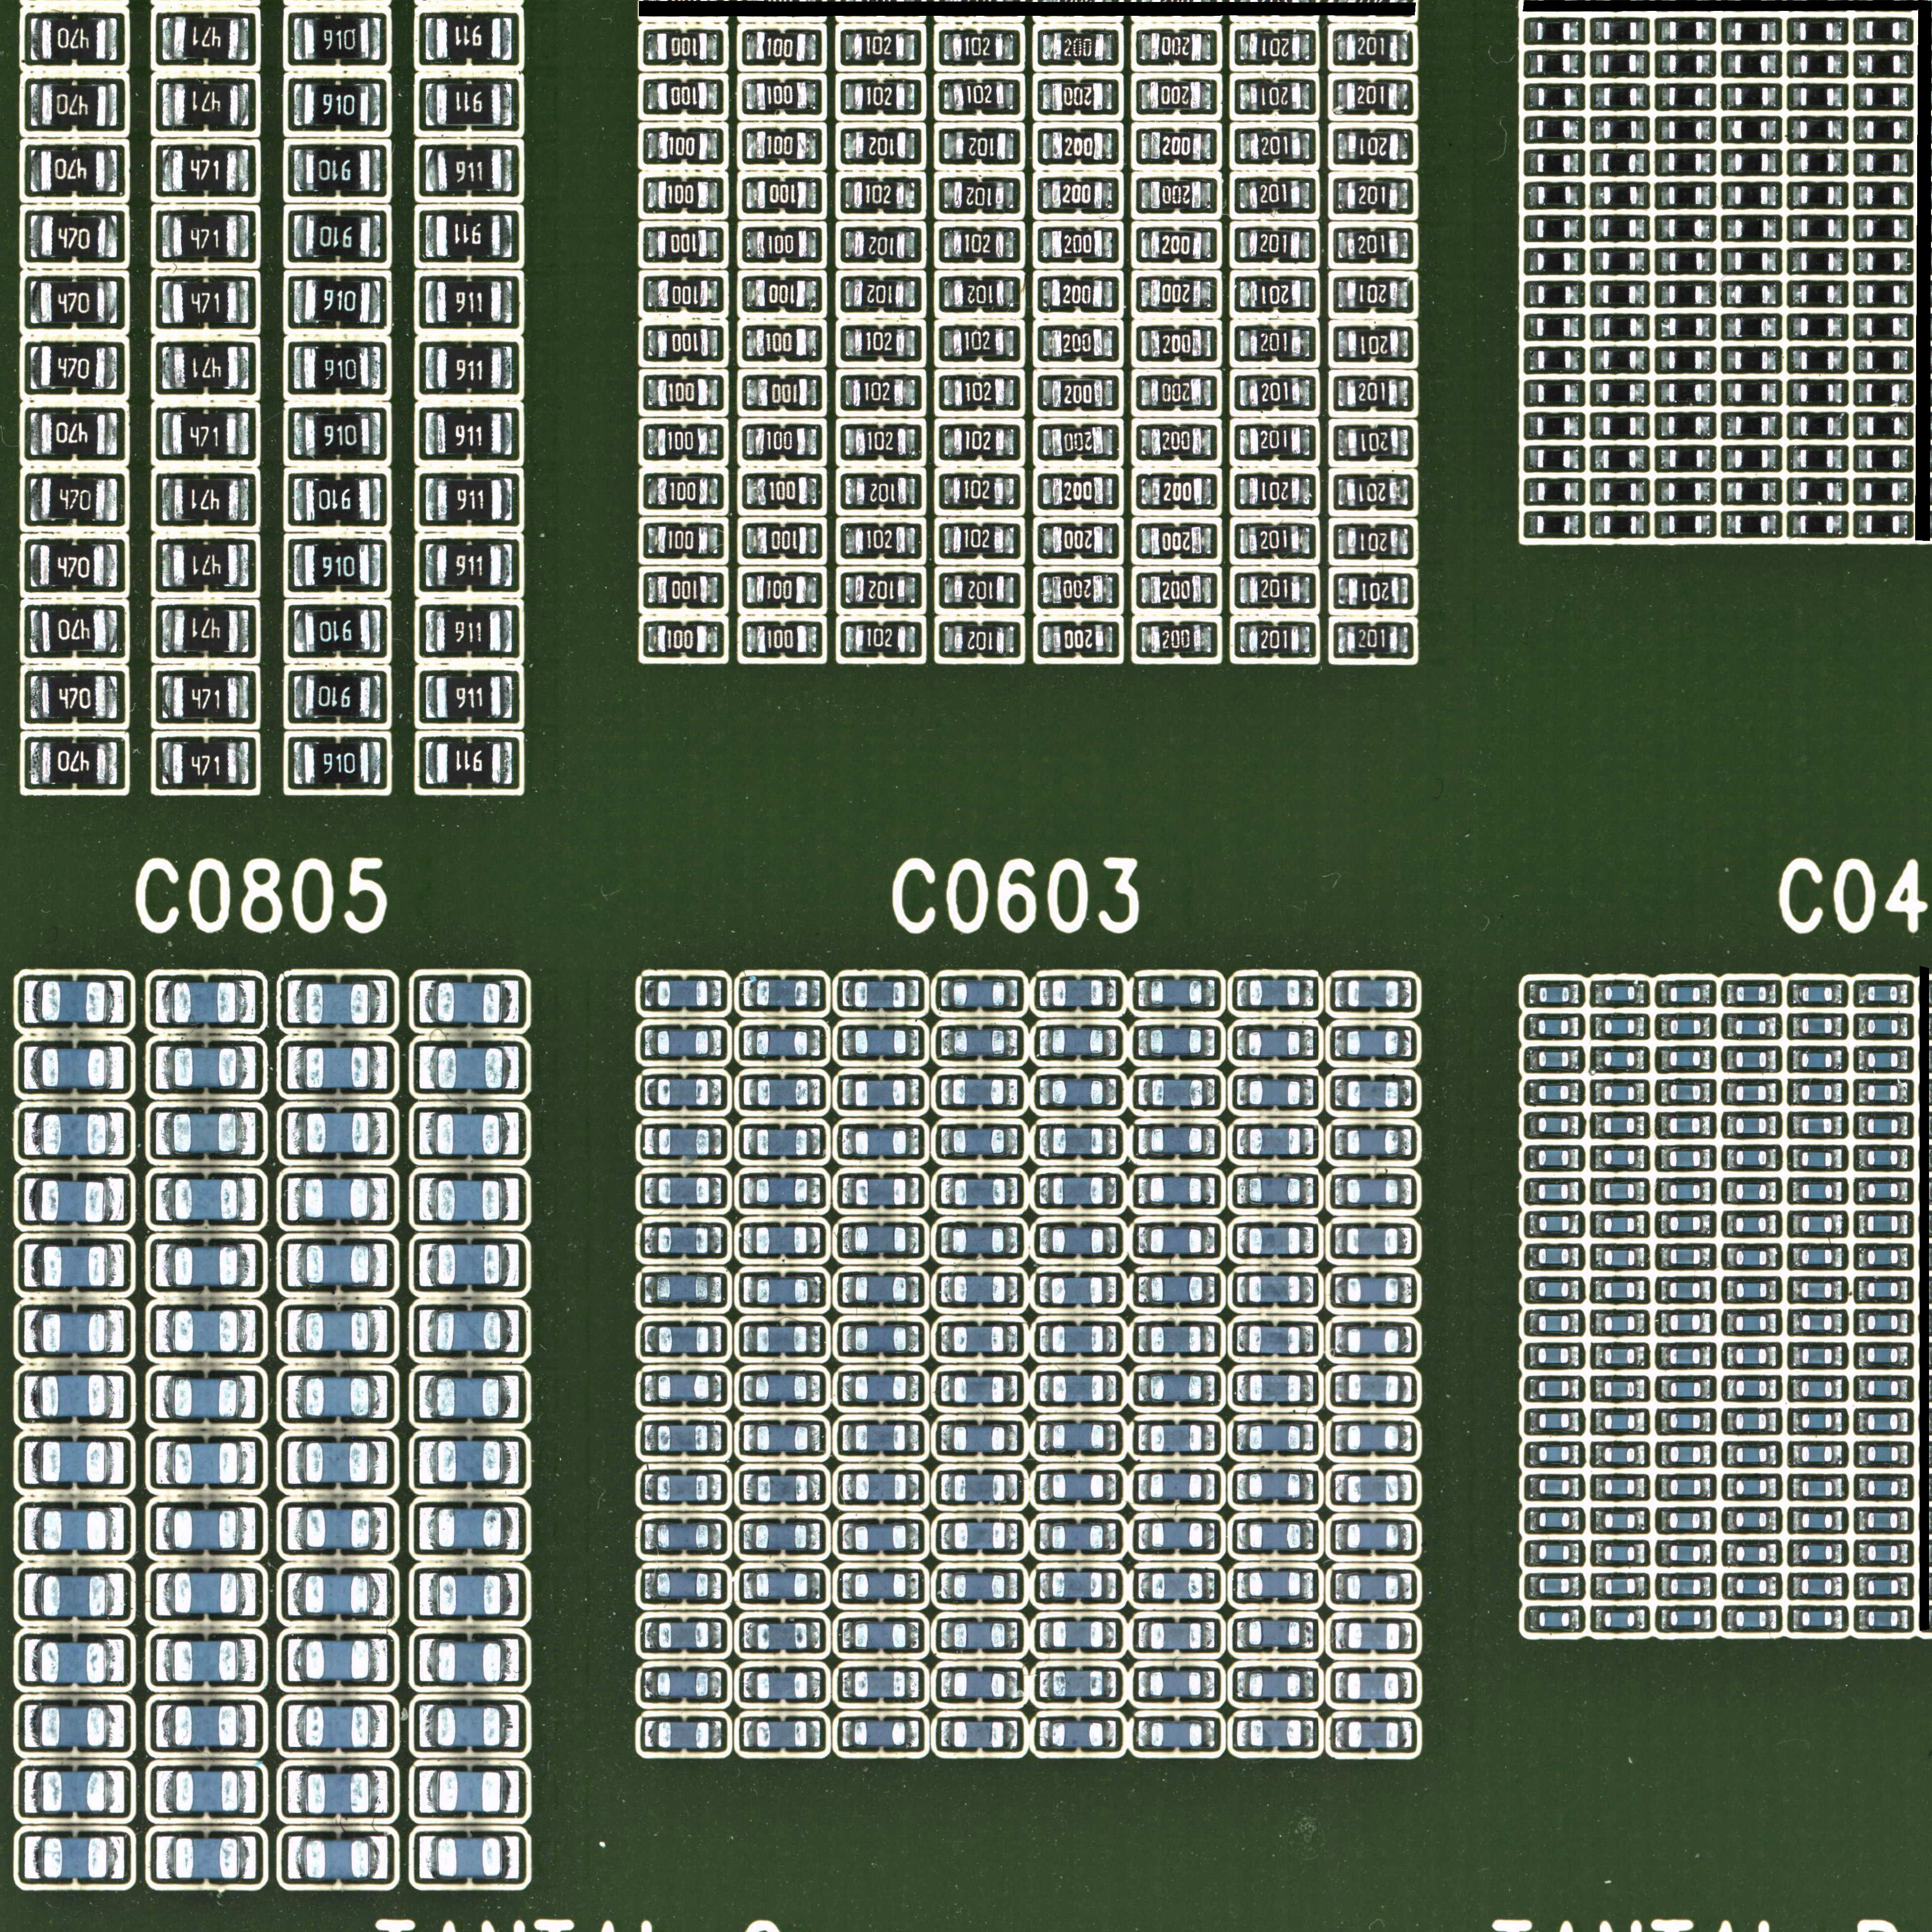Package: (172, 214, 239, 259), (171, 676, 239, 720), (306, 212, 372, 256), (303, 477, 369, 521), (433, 740, 499, 785), (433, 346, 501, 389), (435, 212, 501, 256), (436, 16, 503, 60), (306, 18, 373, 61), (435, 281, 501, 325), (435, 478, 501, 522), (303, 544, 370, 587), (304, 738, 369, 782), (40, 152, 109, 194), (171, 413, 240, 455), (39, 480, 107, 522), (39, 678, 107, 720), (303, 281, 370, 324), (434, 543, 500, 586), (172, 18, 240, 60), (38, 215, 106, 257), (39, 281, 107, 323), (38, 414, 106, 456), (169, 478, 238, 520), (171, 743, 239, 785), (172, 543, 241, 585), (40, 611, 108, 653), (41, 743, 109, 785), (173, 281, 239, 324), (42, 85, 110, 127), (304, 149, 369, 193), (434, 149, 502, 191), (41, 19, 109, 60), (38, 347, 106, 389), (172, 348, 240, 390), (432, 414, 500, 456), (301, 414, 370, 455), (431, 676, 499, 718), (301, 678, 370, 720), (172, 610, 240, 651), (40, 546, 108, 587), (174, 83, 239, 127), (303, 1178, 371, 1219), (174, 1442, 240, 1484), (435, 1441, 500, 1483), (173, 150, 239, 193), (306, 85, 368, 129), (172, 982, 238, 1024), (303, 347, 368, 388), (305, 611, 370, 652), (43, 982, 108, 1024), (40, 1643, 108, 1683), (436, 1049, 504, 1089), (436, 83, 501, 125), (41, 1442, 107, 1483), (436, 612, 501, 653), (38, 1773, 105, 1813), (41, 1838, 107, 1878), (436, 982, 500, 1024), (305, 981, 370, 1023), (173, 1179, 239, 1220), (39, 1181, 106, 1221), (40, 1376, 106, 1416), (305, 1442, 369, 1483), (435, 1706, 500, 1747), (40, 1707, 106, 1747), (435, 1180, 501, 1220), (173, 1379, 241, 1417), (41, 1247, 106, 1287), (175, 1245, 240, 1285), (175, 1310, 240, 1350), (41, 1312, 106, 1352), (40, 1511, 106, 1550), (42, 1577, 108, 1615), (305, 1048, 369, 1088), (304, 1640, 370, 1679), (304, 1708, 370, 1747), (173, 1113, 239, 1152), (437, 1772, 501, 1812), (44, 1113, 109, 1152), (173, 1642, 238, 1681), (436, 1312, 501, 1351), (305, 1113, 370, 1152), (173, 1707, 238, 1745), (171, 1772, 236, 1811), (174, 1838, 239, 1877), (304, 1773, 368, 1812), (306, 1838, 370, 1878), (436, 1114, 499, 1154), (305, 1378, 369, 1417), (305, 1510, 370, 1548), (305, 1575, 370, 1614), (437, 1246, 500, 1285), (437, 1576, 501, 1615), (437, 1838, 502, 1876), (436, 1643, 501, 1681), (305, 1246, 369, 1284), (305, 1311, 369, 1349), (437, 1510, 501, 1547), (175, 1575, 239, 1613), (436, 1378, 499, 1416), (172, 1512, 236, 1549), (176, 1049, 238, 1087), (44, 1049, 105, 1087), (755, 32, 806, 61), (754, 279, 807, 307), (854, 1177, 907, 1206), (1347, 1721, 1400, 1749), (1053, 427, 1104, 456), (756, 1523, 809, 1551), (954, 1474, 1005, 1503), (755, 1226, 808, 1254), (854, 1424, 907, 1451), (756, 477, 809, 505), (756, 182, 809, 209), (755, 576, 808, 604), (954, 1522, 1006, 1550), (755, 131, 807, 159), (1347, 1672, 1399, 1700), (756, 979, 808, 1007), (659, 1176, 710, 1205), (1349, 528, 1400, 556), (854, 1375, 908, 1401), (854, 1226, 907, 1253), (757, 1424, 809, 1451), (1051, 1326, 1104, 1353), (1347, 1080, 1399, 1108), (756, 1672, 808, 1700), (1151, 132, 1201, 160), (953, 981, 1006, 1008), (855, 1473, 907, 1500), (1347, 1622, 1399, 1649), (1052, 1423, 1104, 1450), (1052, 1375, 1104, 1402), (855, 1524, 907, 1551), (757, 1129, 808, 1157), (955, 1178, 1006, 1206), (1151, 1521, 1202, 1549), (659, 1275, 710, 1303), (756, 329, 807, 356), (855, 280, 906, 308), (1149, 1473, 1202, 1499), (1150, 979, 1202, 1006), (855, 1573, 907, 1599), (854, 1030, 907, 1056), (1347, 1128, 1399, 1155), (953, 1721, 1005, 1748), (855, 429, 907, 456), (1348, 281, 1399, 308), (1347, 980, 1398, 1008), (1052, 980, 1103, 1008), (1054, 33, 1104, 61), (1053, 380, 1103, 407), (1152, 181, 1201, 209), (1349, 429, 1399, 457), (1151, 1127, 1203, 1154), (953, 1227, 1005, 1254), (855, 1276, 907, 1303), (954, 1425, 1006, 1452), (953, 1276, 1005, 1303), (954, 1376, 1006, 1403), (756, 1573, 808, 1599), (658, 1721, 709, 1748), (756, 428, 807, 455), (756, 83, 807, 110), (755, 1374, 806, 1401), (1151, 33, 1202, 60), (1052, 280, 1103, 307), (1250, 281, 1301, 308), (1151, 626, 1202, 653), (756, 1326, 807, 1353), (757, 1720, 807, 1748), (1250, 1127, 1300, 1155), (658, 379, 708, 406), (658, 133, 708, 160), (1053, 1029, 1103, 1057), (1349, 380, 1399, 407), (1152, 280, 1201, 308), (1251, 526, 1300, 554), (1150, 1028, 1202, 1055), (657, 182, 709, 208), (756, 1177, 807, 1204), (855, 478, 906, 504), (757, 1476, 809, 1502), (1052, 626, 1104, 652), (1249, 1275, 1300, 1303), (1053, 527, 1103, 554), (1151, 428, 1202, 455), (658, 427, 707, 455), (1151, 81, 1200, 109), (1251, 132, 1301, 159), (1348, 133, 1397, 161), (955, 576, 1005, 603), (1252, 378, 1299, 407), (1052, 1228, 1104, 1254), (853, 981, 905, 1008), (855, 1623, 907, 1649), (855, 1672, 907, 1698), (855, 1721, 907, 1747), (1151, 1622, 1202, 1649), (658, 478, 709, 504), (955, 1573, 1006, 1599), (1348, 1573, 1399, 1600), (1151, 1375, 1202, 1401), (955, 133, 1006, 159), (1250, 183, 1301, 209), (1347, 627, 1398, 653), (659, 1129, 709, 1156), (1347, 1029, 1397, 1057), (1053, 1621, 1103, 1648), (1250, 1620, 1300, 1647), (1250, 979, 1300, 1007), (758, 1078, 808, 1106), (955, 379, 1005, 406), (1152, 1424, 1201, 1451), (1053, 181, 1102, 209), (1150, 1670, 1201, 1696), (1347, 1425, 1399, 1451), (1052, 1474, 1104, 1500), (954, 1029, 1006, 1056), (1052, 1079, 1104, 1106), (953, 627, 1005, 653), (1348, 1374, 1398, 1401), (1052, 1572, 1103, 1599), (854, 1081, 907, 1106), (955, 1672, 1005, 1698), (855, 626, 906, 652), (1153, 1079, 1202, 1106), (1250, 1374, 1300, 1401), (1053, 133, 1103, 160), (955, 182, 1004, 209), (955, 231, 1004, 258), (955, 281, 1004, 308), (1151, 528, 1201, 555), (1054, 477, 1103, 504), (1150, 1228, 1202, 1254), (855, 1326, 907, 1352), (1151, 1721, 1202, 1747), (1347, 1228, 1398, 1254), (1250, 1228, 1301, 1254), (1250, 1523, 1301, 1549), (1250, 1473, 1301, 1499), (1052, 1524, 1103, 1550), (1052, 1721, 1103, 1747), (658, 1523, 708, 1550), (1151, 1326, 1201, 1353), (758, 231, 808, 258), (1152, 232, 1202, 258), (1347, 83, 1397, 110), (1348, 34, 1398, 61), (954, 329, 1004, 356), (1151, 576, 1201, 603), (954, 1078, 1004, 1105), (1153, 1572, 1202, 1599), (658, 1078, 707, 1106), (1054, 1128, 1103, 1155), (659, 1475, 708, 1502), (1250, 33, 1299, 60), (1349, 182, 1398, 209), (1152, 379, 1201, 406), (1151, 1177, 1202, 1203), (854, 1129, 906, 1155), (1348, 1524, 1399, 1550), (955, 1622, 1005, 1648), (1250, 1327, 1301, 1353), (1348, 1328, 1400, 1353), (658, 331, 708, 357), (658, 527, 708, 553), (658, 1572, 709, 1598), (854, 232, 904, 258), (1250, 233, 1300, 259), (1053, 330, 1103, 356), (1250, 576, 1301, 602), (1250, 1079, 1299, 1106), (1053, 1178, 1102, 1205), (658, 1029, 708, 1056), (658, 980, 707, 1007), (658, 281, 708, 307), (855, 329, 905, 356), (1053, 231, 1102, 257), (954, 477, 1004, 504), (659, 1670, 707, 1697), (658, 230, 707, 257), (1051, 1277, 1102, 1303), (954, 1326, 1005, 1352), (757, 1030, 808, 1056), (1250, 83, 1301, 109), (855, 528, 907, 553), (854, 577, 906, 602), (658, 1374, 708, 1401), (758, 527, 808, 553), (758, 379, 808, 405), (756, 626, 806, 652), (856, 133, 906, 159), (856, 84, 906, 110), (1349, 232, 1399, 258), (954, 528, 1004, 554), (1152, 478, 1202, 504), (1053, 576, 1103, 602), (1349, 578, 1399, 604), (855, 182, 904, 208), (1349, 479, 1398, 506), (955, 429, 1004, 455), (659, 1621, 707, 1648), (657, 577, 708, 603), (1251, 428, 1301, 454), (1250, 1030, 1299, 1056), (757, 1623, 806, 1649), (854, 380, 903, 406), (1251, 478, 1299, 505), (1348, 1277, 1398, 1303), (657, 627, 707, 652), (757, 1279, 809, 1304), (659, 1227, 708, 1253), (658, 83, 707, 109), (856, 34, 905, 60), (1054, 84, 1103, 110), (1250, 626, 1298, 653), (659, 1327, 708, 1352), (1152, 331, 1201, 356), (1250, 330, 1300, 356), (1349, 331, 1398, 356), (659, 1425, 707, 1451), (1250, 1572, 1300, 1597), (1251, 1425, 1301, 1450), (954, 1128, 1004, 1154), (1349, 1476, 1399, 1501), (1250, 1178, 1300, 1203), (1152, 1277, 1202, 1302), (1348, 1178, 1397, 1204), (1250, 1673, 1299, 1698), (1251, 1721, 1300, 1746), (658, 34, 706, 59), (955, 83, 1004, 108), (955, 35, 1003, 59), (1055, 1672, 1103, 1696), (1602, 184, 1638, 205), (1865, 185, 1900, 206), (1801, 86, 1835, 107), (1800, 251, 1835, 272), (1602, 251, 1637, 271), (1667, 349, 1702, 370), (1865, 252, 1900, 272), (1865, 350, 1900, 370), (1734, 383, 1768, 403), (1538, 153, 1571, 174), (1736, 55, 1769, 76), (1669, 382, 1702, 403), (1735, 22, 1770, 42), (1799, 22, 1834, 42), (1735, 219, 1769, 239), (1669, 482, 1701, 502), (1866, 318, 1901, 337), (1670, 21, 1704, 41), (1602, 120, 1637, 140), (1603, 285, 1637, 305), (1735, 186, 1768, 206), (1799, 120, 1833, 140), (1669, 87, 1701, 107), (1801, 284, 1834, 304), (1602, 417, 1637, 435), (1603, 483, 1637, 502), (1538, 251, 1571, 271), (1538, 449, 1571, 469), (1538, 482, 1571, 501), (1669, 153, 1702, 173), (1801, 384, 1834, 403), (1538, 516, 1572, 535), (1670, 514, 1702, 534), (1603, 318, 1637, 337), (1602, 449, 1637, 468), (1603, 350, 1637, 369), (1538, 385, 1572, 403), (1603, 516, 1637, 534), (1602, 154, 1637, 173), (1735, 318, 1768, 337), (1866, 383, 1899, 402), (1669, 416, 1702, 435), (1604, 87, 1637, 107), (1800, 318, 1833, 338), (1539, 88, 1571, 107), (1801, 55, 1834, 75), (1867, 153, 1899, 172), (1734, 153, 1768, 171), (1669, 318, 1703, 336), (1800, 153, 1834, 172), (1865, 219, 1899, 237), (1537, 120, 1570, 139), (1670, 253, 1703, 272), (1735, 351, 1768, 370), (1801, 417, 1834, 436), (1866, 449, 1899, 468), (1866, 88, 1899, 106), (1801, 187, 1834, 205), (1735, 417, 1768, 435), (1800, 450, 1833, 469), (1538, 186, 1571, 205), (1670, 449, 1702, 468), (1867, 515, 1899, 534), (1736, 482, 1768, 501), (1537, 351, 1571, 369), (1671, 55, 1702, 75), (1734, 88, 1768, 106), (1538, 219, 1570, 238), (1734, 121, 1767, 140), (1735, 449, 1768, 468), (1735, 515, 1767, 534), (1867, 416, 1899, 435), (1801, 482, 1833, 501), (1538, 286, 1571, 304), (1602, 384, 1635, 402), (1603, 219, 1637, 238), (1668, 219, 1701, 237), (1866, 22, 1899, 40), (1735, 286, 1768, 303), (1537, 318, 1570, 337), (1669, 286, 1702, 304), (1800, 351, 1833, 369), (1671, 1446, 1702, 1464), (1538, 417, 1570, 435), (1867, 55, 1899, 74), (1803, 1609, 1835, 1627), (1800, 1578, 1833, 1596), (1604, 54, 1636, 73), (1866, 483, 1897, 501), (1802, 1480, 1835, 1497), (1801, 1117, 1834, 1135), (1670, 1215, 1702, 1233), (1538, 22, 1570, 40), (1801, 1446, 1834, 1463), (1801, 1149, 1834, 1166), (1802, 1182, 1835, 1200), (1801, 1216, 1834, 1234), (1801, 1248, 1834, 1265), (1800, 1282, 1833, 1300), (1670, 1281, 1702, 1299), (1669, 1313, 1702, 1331), (1801, 1347, 1834, 1365), (1801, 1380, 1834, 1398), (1867, 121, 1900, 139), (1867, 285, 1899, 303), (1670, 1478, 1702, 1497), (1802, 1084, 1834, 1103), (1538, 54, 1570, 73), (1669, 1512, 1701, 1531), (1670, 121, 1702, 139), (1802, 219, 1834, 237), (1604, 1412, 1635, 1431), (1604, 23, 1637, 40), (1669, 1116, 1701, 1134), (1669, 1348, 1701, 1365), (1736, 1511, 1767, 1529), (1671, 1578, 1702, 1596), (1801, 1016, 1832, 1035), (1735, 1314, 1766, 1333), (1736, 1577, 1767, 1595), (1868, 1216, 1899, 1234), (1868, 1412, 1900, 1430), (1669, 1546, 1701, 1564), (1736, 252, 1767, 270), (1867, 1511, 1898, 1530), (1604, 1380, 1635, 1399), (1539, 1149, 1569, 1167), (1737, 1182, 1768, 1201), (1736, 1216, 1767, 1234), (1867, 1546, 1898, 1564), (1734, 985, 1766, 1002), (1736, 1018, 1767, 1036), (1605, 1512, 1636, 1530), (1670, 1084, 1701, 1102), (1736, 1412, 1767, 1430), (1605, 1546, 1636, 1564), (1736, 1545, 1767, 1563), (1604, 1281, 1635, 1300), (1540, 1380, 1570, 1398), (1868, 1149, 1900, 1166), (1867, 1116, 1898, 1134), (1670, 986, 1702, 1003), (1670, 188, 1701, 205), (1671, 1183, 1702, 1200), (1869, 1183, 1900, 1200), (1868, 1248, 1899, 1265), (1868, 1282, 1899, 1299), (1868, 1347, 1900, 1364), (1867, 1446, 1899, 1463), (1539, 1347, 1569, 1365), (1604, 1149, 1635, 1167), (1736, 1282, 1767, 1300), (1737, 1347, 1767, 1365), (1605, 985, 1635, 1004), (1867, 1479, 1899, 1496), (1604, 1249, 1635, 1266), (1603, 1116, 1635, 1134), (1604, 1314, 1634, 1332), (1604, 1478, 1635, 1496), (1540, 1215, 1569, 1233), (1539, 1248, 1569, 1265), (1540, 1446, 1569, 1464), (1540, 986, 1569, 1004), (1801, 986, 1834, 1003), (1868, 1579, 1900, 1595), (1868, 1610, 1900, 1627), (1800, 516, 1833, 532), (1539, 1545, 1570, 1561), (1670, 1413, 1701, 1430), (1539, 1116, 1569, 1134), (1539, 1578, 1569, 1595), (1671, 1381, 1701, 1398), (1670, 1151, 1701, 1167), (1605, 1018, 1636, 1035), (1604, 1348, 1635, 1364), (1540, 1051, 1571, 1068), (1867, 1314, 1898, 1331), (1540, 1478, 1569, 1496), (1540, 1315, 1569, 1333), (1604, 1446, 1634, 1463), (1671, 1248, 1700, 1265), (1868, 1018, 1898, 1035), (1604, 1216, 1634, 1233), (1868, 984, 1898, 1001), (1670, 1051, 1700, 1068), (1540, 1084, 1569, 1102), (1671, 1019, 1701, 1035), (1540, 1413, 1570, 1430), (1868, 1380, 1898, 1397), (1736, 1479, 1767, 1496), (1540, 1281, 1569, 1298), (1605, 1052, 1635, 1068), (1539, 1512, 1569, 1529), (1736, 1051, 1766, 1067), (1736, 1117, 1766, 1134), (1801, 1315, 1832, 1331), (1737, 1447, 1767, 1463), (1540, 1611, 1569, 1628), (1540, 1019, 1569, 1036), (1604, 1183, 1633, 1200), (1736, 1085, 1765, 1102), (1736, 1381, 1766, 1397), (1737, 1611, 1767, 1627), (1736, 1250, 1766, 1266), (1540, 1184, 1569, 1200), (1803, 1513, 1833, 1529), (1869, 1052, 1897, 1068), (1869, 1085, 1897, 1102), (1736, 1151, 1766, 1166), (1606, 1579, 1635, 1595), (1802, 1545, 1831, 1561), (1606, 1611, 1635, 1628), (1802, 1413, 1832, 1429), (1604, 1086, 1634, 1101), (1803, 1053, 1832, 1068), (1672, 1610, 1700, 1625)
Solder: (420, 1573, 438, 1616), (370, 1638, 387, 1682), (502, 1573, 520, 1617), (502, 1112, 519, 1155), (502, 1310, 518, 1354), (239, 1310, 255, 1354), (502, 1376, 518, 1421), (107, 1770, 123, 1815), (107, 1836, 123, 1881), (241, 981, 258, 1025), (503, 980, 519, 1024), (373, 980, 389, 1024), (502, 1178, 519, 1222), (239, 1244, 255, 1288), (239, 1375, 255, 1419), (502, 1442, 518, 1486), (502, 1508, 519, 1552), (107, 1640, 124, 1684), (107, 1706, 123, 1750), (501, 1705, 518, 1749), (501, 1770, 518, 1814), (420, 1508, 437, 1549), (502, 1640, 518, 1683), (419, 1245, 436, 1287), (22, 1377, 39, 1419), (238, 1508, 255, 1550), (371, 1771, 388, 1813), (238, 1835, 255, 1878), (240, 1046, 255, 1091), (240, 1112, 256, 1157), (107, 1508, 123, 1552), (370, 1047, 386, 1088), (240, 1573, 256, 1615), (238, 1640, 255, 1681), (110, 1047, 126, 1091), (110, 1179, 126, 1223), (240, 1177, 255, 1221), (372, 1112, 388, 1156), (112, 1112, 128, 1157), (109, 1245, 125, 1289), (108, 1311, 124, 1355), (108, 1377, 124, 1421), (109, 1443, 125, 1487), (108, 1574, 124, 1618), (503, 1836, 519, 1880), (156, 1046, 173, 1088), (371, 1178, 387, 1220), (503, 1244, 519, 1287), (371, 1310, 387, 1353), (156, 1309, 172, 1352), (156, 1375, 172, 1418), (156, 1441, 172, 1483), (156, 1507, 172, 1550), (370, 1705, 386, 1747), (23, 1771, 40, 1813), (24, 1836, 41, 1879), (23, 981, 40, 1023), (153, 981, 170, 1023), (415, 980, 431, 1022), (285, 980, 301, 1022), (420, 1046, 436, 1088), (287, 1047, 303, 1089), (25, 1047, 42, 1089), (25, 1179, 42, 1221), (157, 1179, 173, 1221), (287, 1178, 303, 1220), (420, 1178, 436, 1220), (287, 1112, 303, 1154), (155, 1112, 171, 1155), (23, 1113, 40, 1155), (287, 1244, 303, 1286), (24, 1245, 41, 1287), (156, 1244, 172, 1286), (419, 1310, 435, 1352), (288, 1310, 304, 1352), (24, 1311, 41, 1353), (287, 1376, 303, 1418), (420, 1376, 436, 1418), (23, 1443, 40, 1485), (419, 1442, 435, 1484), (287, 1442, 303, 1484), (24, 1508, 41, 1550), (156, 1572, 173, 1614), (24, 1574, 40, 1616), (156, 1639, 172, 1681), (24, 1639, 41, 1681), (23, 1705, 40, 1747), (156, 1706, 172, 1748), (238, 1706, 254, 1748), (238, 1771, 254, 1813), (155, 1770, 171, 1812), (370, 1836, 386, 1879), (157, 1836, 173, 1878), (420, 1112, 435, 1155), (372, 1442, 387, 1485), (372, 1376, 387, 1419), (371, 1573, 386, 1616), (503, 1047, 519, 1089), (420, 1639, 435, 1682), (372, 1507, 387, 1549), (420, 1705, 435, 1748), (372, 1244, 387, 1285), (241, 1443, 256, 1484), (289, 1771, 303, 1813), (288, 1640, 303, 1681), (289, 1837, 304, 1879), (111, 981, 125, 1023), (288, 1508, 302, 1549), (288, 1574, 302, 1615), (289, 1705, 303, 1747), (421, 1771, 435, 1812), (421, 1836, 435, 1878), (426, 16, 436, 60), (295, 16, 305, 60), (162, 17, 172, 60), (162, 83, 172, 127), (294, 83, 304, 126), (426, 83, 435, 126), (426, 148, 435, 192), (294, 148, 304, 192), (425, 215, 435, 258), (293, 215, 303, 258), (161, 215, 171, 259), (291, 281, 301, 325), (160, 281, 170, 325), (292, 345, 302, 389), (290, 412, 300, 455), (292, 543, 302, 586), (291, 741, 301, 785), (31, 17, 41, 60), (31, 83, 41, 127), (29, 215, 39, 259), (28, 281, 38, 325), (162, 149, 172, 192), (292, 478, 302, 521), (292, 608, 302, 651), (290, 676, 300, 719), (31, 149, 41, 192), (1003, 1079, 1018, 1105), (709, 1325, 722, 1354), (1301, 1622, 1314, 1649), (708, 1523, 722, 1551), (708, 1671, 722, 1699), (707, 1030, 722, 1056), (941, 1178, 955, 1205), (1202, 1671, 1215, 1699), (906, 1622, 919, 1650), (642, 1325, 655, 1354), (708, 980, 722, 1007), (1201, 1177, 1215, 1204), (743, 1177, 756, 1205), (708, 1375, 722, 1402), (1103, 1621, 1116, 1649), (743, 1425, 757, 1451), (806, 1622, 820, 1649), (643, 1128, 656, 1157), (709, 1128, 722, 1157), (743, 1571, 756, 1600), (709, 1621, 722, 1650), (1398, 1030, 1411, 1057), (1399, 1080, 1412, 1107), (1335, 1079, 1348, 1106), (708, 1079, 721, 1106), (906, 1128, 919, 1156), (644, 1276, 658, 1303), (1201, 1425, 1214, 1452), (940, 1474, 954, 1501), (644, 1721, 657, 1748), (1201, 1326, 1215, 1352), (1334, 1178, 1347, 1206), (1203, 1720, 1215, 1749), (1202, 1030, 1215, 1057), (1301, 1030, 1314, 1057), (1138, 1079, 1151, 1106), (644, 1078, 658, 1105), (1004, 1128, 1017, 1155), (1203, 1277, 1216, 1304), (1335, 1425, 1349, 1452), (1039, 1621, 1053, 1648), (645, 1474, 658, 1500), (1237, 1227, 1250, 1255), (1103, 1573, 1116, 1598), (1139, 1572, 1152, 1599), (1335, 1475, 1348, 1502), (504, 18, 513, 60), (374, 18, 382, 60), (241, 18, 249, 60), (241, 85, 249, 127), (370, 84, 379, 126), (504, 84, 512, 126), (370, 149, 379, 192), (504, 149, 513, 192), (241, 150, 249, 192), (503, 215, 512, 257), (374, 215, 382, 257), (503, 282, 511, 324), (241, 283, 249, 325), (503, 346, 512, 388), (241, 347, 249, 389), (240, 414, 248, 456), (503, 478, 512, 520), (241, 480, 249, 522), (504, 543, 512, 585), (241, 545, 250, 587), (504, 608, 512, 650), (241, 610, 250, 652), (370, 675, 378, 717), (241, 677, 249, 720), (502, 742, 511, 784), (371, 741, 379, 783), (241, 742, 250, 784), (110, 18, 118, 60), (109, 150, 117, 192), (108, 217, 116, 259), (109, 283, 117, 325), (109, 347, 118, 389), (108, 414, 117, 456), (109, 677, 117, 720), (906, 1178, 919, 1204), (709, 1227, 722, 1254), (709, 1276, 722, 1303), (709, 1425, 722, 1451), (1103, 980, 1116, 1008), (1202, 1079, 1215, 1106), (744, 1078, 757, 1105), (1399, 1228, 1412, 1255), (1237, 1177, 1250, 1204), (1202, 1375, 1215, 1402), (1139, 1621, 1152, 1648), (1237, 1523, 1250, 1550), (1138, 1523, 1151, 1550), (644, 1622, 657, 1649), (905, 981, 919, 1006), (371, 281, 380, 323), (371, 412, 379, 453), (1039, 979, 1052, 1008), (1334, 980, 1347, 1009), (1040, 1078, 1052, 1107), (1039, 1128, 1052, 1156), (1105, 1128, 1117, 1156), (1103, 1177, 1115, 1206), (1335, 1277, 1347, 1305), (1039, 1325, 1052, 1353), (1105, 1375, 1117, 1403), (1039, 1375, 1052, 1403), (1335, 1721, 1347, 1749), (1335, 1672, 1347, 1700), (1333, 1574, 1345, 1602), (940, 1079, 953, 1106), (940, 1720, 953, 1747), (1202, 980, 1215, 1007), (1301, 1079, 1313, 1106), (807, 1128, 820, 1155), (1301, 1178, 1314, 1205), (1039, 1178, 1052, 1205), (1202, 1227, 1215, 1254), (940, 1326, 954, 1352), (1103, 1721, 1116, 1747), (907, 1474, 919, 1500), (645, 1523, 658, 1550), (906, 1523, 919, 1550), (645, 1573, 658, 1598), (743, 1623, 757, 1648), (644, 1671, 657, 1698), (710, 1721, 723, 1748), (808, 1721, 821, 1747), (1039, 1028, 1052, 1056), (1040, 1028, 1052, 1056), (1105, 1078, 1117, 1106), (941, 1276, 954, 1304), (1335, 1326, 1348, 1354), (941, 1375, 954, 1403), (1335, 1622, 1348, 1650), (1005, 1721, 1017, 1748), (907, 1079, 920, 1106), (744, 1277, 757, 1303), (907, 1277, 920, 1303), (1138, 1326, 1151, 1352), (644, 1375, 657, 1401), (1104, 1671, 1116, 1697), (1203, 1622, 1215, 1648), (645, 1425, 658, 1451), (807, 1524, 820, 1550), (644, 981, 658, 1006), (1040, 1672, 1054, 1697), (743, 1475, 757, 1500), (809, 980, 821, 1008), (941, 1129, 953, 1156), (1138, 1276, 1151, 1304), (907, 1326, 919, 1353), (941, 1572, 953, 1599), (907, 1720, 919, 1747), (1399, 980, 1410, 1009), (1104, 1029, 1115, 1058), (1006, 1178, 1018, 1206), (1399, 1178, 1411, 1207), (1105, 1275, 1116, 1304), (1237, 1276, 1249, 1304), (1105, 1326, 1116, 1354), (1400, 1326, 1411, 1354), (1334, 1373, 1346, 1401), (1303, 1375, 1314, 1403), (1006, 1375, 1018, 1403), (1006, 1424, 1017, 1452), (1302, 1720, 1313, 1748), (1401, 1572, 1412, 1600), (1006, 1473, 1018, 1501), (240, 217, 247, 259), (372, 345, 380, 387), (502, 412, 510, 454), (372, 477, 380, 519), (373, 543, 381, 585), (373, 608, 381, 650), (501, 676, 509, 718), (111, 84, 119, 126), (108, 479, 116, 521), (110, 545, 118, 587), (110, 610, 118, 652), (110, 742, 118, 784), (645, 1178, 658, 1204), (808, 1326, 821, 1352), (1237, 1376, 1250, 1401), (941, 1623, 954, 1648), (1301, 1524, 1314, 1549), (1104, 1474, 1116, 1499), (808, 1672, 821, 1697), (1302, 1128, 1314, 1155), (808, 1227, 820, 1254), (941, 1227, 953, 1254), (808, 1375, 820, 1402), (1301, 1425, 1313, 1451), (1040, 1425, 1052, 1451), (1237, 1573, 1249, 1599), (1335, 1524, 1348, 1550), (907, 1572, 919, 1599), (842, 1721, 854, 1747), (1138, 979, 1150, 1007), (1302, 979, 1313, 1007), (908, 1029, 919, 1057), (1005, 1276, 1017, 1304), (1399, 1277, 1411, 1304), (1006, 1326, 1017, 1354), (1302, 1326, 1313, 1353), (1204, 1572, 1215, 1600), (1203, 1522, 1215, 1550), (908, 1424, 920, 1451), (1202, 1129, 1215, 1154), (645, 1228, 658, 1253), (744, 1672, 757, 1697), (744, 1030, 756, 1056), (1334, 1029, 1347, 1056), (744, 1129, 756, 1155), (709, 1178, 722, 1205), (1335, 1228, 1347, 1255), (743, 1326, 755, 1352), (1401, 1623, 1413, 1649), (1237, 1622, 1250, 1648), (1040, 1572, 1052, 1598), (1104, 1523, 1116, 1549), (941, 1524, 954, 1550), (709, 1573, 721, 1599), (1335, 1129, 1347, 1156), (907, 1227, 919, 1254), (809, 1276, 821, 1304), (1400, 1425, 1412, 1452), (1138, 1424, 1150, 1451), (1006, 1523, 1018, 1550), (1400, 1128, 1411, 1157), (1006, 1227, 1017, 1255), (1302, 1227, 1313, 1256), (1302, 1276, 1313, 1304), (1238, 1325, 1249, 1353), (1399, 1373, 1410, 1401), (1105, 1423, 1116, 1451), (1006, 1671, 1017, 1699), (1400, 1672, 1411, 1700), (1040, 1523, 1052, 1549), (645, 1029, 657, 1056), (809, 1029, 821, 1056), (941, 1029, 953, 1056), (843, 1227, 855, 1254), (1400, 1524, 1411, 1550), (1302, 1474, 1313, 1500), (809, 1573, 821, 1599), (907, 1671, 919, 1698), (809, 1177, 821, 1205), (1400, 1721, 1411, 1749), (1138, 1720, 1150, 1747), (1301, 1671, 1312, 1699), (1303, 1571, 1314, 1599), (1203, 1474, 1215, 1499), (942, 981, 954, 1007), (1039, 1227, 1051, 1254), (842, 1326, 854, 1352), (1006, 1573, 1017, 1599), (1040, 1474, 1052, 1500), (842, 1474, 854, 1500), (743, 1524, 755, 1550), (744, 1721, 756, 1747), (1006, 980, 1017, 1008), (1006, 1029, 1017, 1057), (1238, 1424, 1249, 1451), (842, 1572, 853, 1599), (1237, 980, 1249, 1006), (744, 1227, 756, 1253), (940, 1425, 952, 1451), (1237, 1721, 1249, 1746), (809, 1425, 821, 1451), (1237, 1474, 1249, 1499), (425, 281, 432, 325), (425, 411, 432, 455), (1237, 1128, 1249, 1155), (843, 1177, 854, 1204), (1139, 1227, 1150, 1254), (842, 1276, 854, 1303), (1039, 1276, 1051, 1303), (744, 1375, 755, 1401), (1006, 1622, 1017, 1649), (1400, 1475, 1411, 1501), (842, 1671, 854, 1697), (426, 345, 433, 389), (426, 477, 433, 521), (424, 675, 431, 719), (425, 741, 432, 785), (843, 1621, 854, 1649), (1040, 1720, 1051, 1746), (1237, 1029, 1248, 1056), (1238, 1079, 1249, 1105), (809, 1079, 820, 1106), (1237, 1671, 1249, 1697), (710, 1474, 721, 1500), (842, 1524, 854, 1550), (1138, 1177, 1149, 1204), (843, 1375, 854, 1402), (163, 610, 170, 652), (31, 610, 38, 652), (1105, 1227, 1116, 1253), (162, 347, 169, 389), (161, 414, 168, 456), (162, 479, 169, 521), (163, 545, 170, 587), (163, 677, 170, 719), (164, 743, 171, 785), (31, 347, 38, 389), (30, 414, 37, 456), (31, 479, 38, 521), (31, 545, 38, 587), (31, 677, 38, 719), (32, 743, 39, 785), (842, 1424, 853, 1451), (810, 1474, 821, 1501), (942, 1671, 953, 1697), (843, 1079, 854, 1105), (908, 1376, 919, 1402), (1139, 1374, 1149, 1402), (427, 542, 433, 586), (1138, 1473, 1149, 1500), (707, 231, 718, 258), (427, 608, 433, 651), (843, 981, 854, 1007), (843, 1030, 854, 1056), (1138, 1030, 1149, 1056), (1139, 1128, 1150, 1154), (1138, 1671, 1149, 1697), (744, 981, 755, 1006), (905, 626, 916, 652), (647, 34, 657, 59), (648, 84, 658, 109), (707, 84, 717, 109), (647, 182, 658, 208), (707, 331, 718, 356), (648, 281, 659, 306), (647, 429, 657, 455), (746, 626, 756, 652), (806, 132, 817, 158), (747, 232, 758, 258), (808, 280, 818, 306), (807, 528, 817, 553), (747, 528, 757, 554), (746, 577, 757, 602), (807, 577, 818, 603), (846, 84, 856, 109), (904, 183, 914, 208), (846, 331, 856, 356), (904, 380, 914, 406), (845, 478, 855, 504), (905, 577, 916, 603), (944, 34, 955, 60), (1141, 35, 1151, 60), (1044, 83, 1054, 108), (1102, 133, 1112, 159), (1200, 134, 1210, 159), (1201, 183, 1211, 208), (1043, 182, 1053, 208), (944, 183, 955, 208), (1141, 232, 1152, 257), (1201, 281, 1211, 307), (1043, 281, 1053, 307), (1299, 34, 1309, 59), (1300, 84, 1310, 110), (1301, 133, 1311, 159), (1240, 232, 1250, 258), (1239, 281, 1249, 307), (1300, 282, 1310, 307), (1338, 281, 1349, 307), (1398, 282, 1408, 307), (1398, 183, 1408, 209), (1397, 84, 1407, 110), (1300, 527, 1310, 553), (1004, 528, 1014, 554), (1042, 528, 1053, 553), (1103, 528, 1113, 553), (1240, 529, 1250, 554), (1338, 480, 1349, 505), (1043, 430, 1054, 455), (1240, 429, 1250, 455), (1300, 429, 1310, 455), (1338, 431, 1349, 456), (1398, 430, 1408, 456), (1398, 381, 1408, 406), (1339, 381, 1349, 406), (1241, 381, 1252, 407), (1142, 380, 1152, 405), (1103, 380, 1113, 406), (1043, 330, 1053, 356), (1240, 331, 1250, 357), (1300, 331, 1310, 356), (1398, 331, 1408, 356), (1398, 627, 1408, 653), (1299, 627, 1309, 653), (1201, 627, 1211, 653), (1339, 578, 1349, 604), (943, 628, 953, 653), (648, 231, 658, 257), (746, 477, 756, 504), (843, 1129, 853, 1155), (707, 35, 717, 60), (707, 134, 718, 159), (648, 133, 658, 158), (707, 380, 717, 405), (647, 331, 658, 356), (647, 577, 658, 602), (708, 577, 718, 602), (708, 528, 718, 553), (647, 479, 658, 504), (708, 627, 718, 652), (647, 627, 658, 652), (806, 34, 817, 59), (745, 35, 755, 60), (747, 84, 757, 109), (746, 133, 757, 158), (809, 183, 819, 208), (747, 182, 757, 207), (807, 331, 817, 356), (743, 280, 754, 305), (845, 34, 856, 59), (904, 35, 915, 60), (845, 133, 856, 158), (904, 232, 915, 257), (845, 430, 855, 455), (1004, 36, 1014, 61), (1043, 34, 1054, 59), (1141, 85, 1151, 110), (1102, 84, 1112, 109), (945, 133, 955, 158), (1141, 133, 1151, 158), (1141, 183, 1152, 208), (1101, 183, 1111, 208), (1042, 232, 1053, 257), (1102, 282, 1112, 307), (1240, 35, 1250, 60), (1241, 84, 1251, 109), (1239, 184, 1250, 209), (1300, 183, 1310, 208), (1338, 232, 1348, 257), (1339, 184, 1349, 209), (1338, 134, 1348, 159), (1337, 84, 1348, 109), (1398, 35, 1408, 60), (1142, 529, 1152, 554), (1201, 528, 1211, 553), (1338, 529, 1349, 554), (1240, 479, 1250, 504), (944, 478, 954, 503), (1300, 380, 1310, 405), (1201, 380, 1211, 405), (945, 380, 955, 405), (1142, 332, 1153, 357), (1201, 331, 1211, 356), (1339, 331, 1349, 356), (1338, 628, 1348, 653), (1240, 627, 1251, 652), (1006, 628, 1016, 653), (944, 578, 955, 603), (708, 429, 718, 455), (1004, 478, 1014, 504), (747, 330, 757, 356), (746, 379, 756, 405), (905, 331, 915, 356), (907, 528, 917, 553), (1201, 84, 1211, 109), (944, 84, 954, 109), (1103, 232, 1112, 258), (945, 281, 955, 307), (1337, 35, 1347, 60), (1141, 479, 1151, 504), (1043, 479, 1053, 504), (1102, 430, 1111, 455), (944, 331, 954, 356), (1239, 577, 1249, 602), (647, 380, 657, 405), (647, 528, 657, 553), (805, 84, 815, 109), (806, 627, 816, 652), (846, 282, 856, 307), (844, 528, 854, 553), (1004, 83, 1014, 108), (1043, 133, 1053, 158), (944, 232, 954, 257), (1141, 282, 1151, 307), (1241, 134, 1251, 159), (1397, 134, 1407, 159), (945, 430, 955, 455), (1141, 430, 1151, 455), (1043, 380, 1053, 405), (1004, 331, 1014, 356), (1102, 331, 1112, 356), (1104, 34, 1113, 60), (1399, 528, 1408, 554), (1398, 479, 1407, 505), (1300, 479, 1309, 505), (845, 232, 855, 257), (746, 428, 755, 454), (807, 380, 817, 405), (906, 85, 916, 110), (845, 627, 855, 652), (1202, 35, 1211, 60), (1004, 282, 1014, 307), (1005, 430, 1014, 455), (1043, 578, 1053, 603), (1043, 627, 1052, 651), (708, 281, 717, 307), (709, 479, 718, 504), (846, 182, 855, 208), (845, 380, 854, 405), (1005, 183, 1014, 208), (1005, 380, 1014, 406), (809, 478, 817, 505), (906, 134, 915, 159), (906, 282, 915, 307), (845, 578, 854, 603), (945, 528, 954, 553), (1005, 577, 1014, 603), (1202, 430, 1210, 454), (709, 183, 717, 208), (808, 429, 816, 454), (808, 231, 816, 258), (907, 429, 915, 456), (1005, 231, 1013, 258), (1202, 232, 1210, 259), (1301, 231, 1308, 258), (1400, 232, 1407, 259), (1202, 479, 1210, 505), (1104, 479, 1111, 506), (1104, 576, 1111, 603), (1143, 577, 1151, 603), (1202, 577, 1210, 604), (1302, 577, 1309, 604), (1400, 578, 1408, 605), (1700, 1247, 1710, 1268), (1570, 1182, 1580, 1203), (1661, 1411, 1670, 1433), (1661, 1379, 1670, 1401), (1700, 1544, 1710, 1564), (907, 479, 915, 504), (1142, 627, 1150, 652), (1570, 1083, 1580, 1103), (1857, 1247, 1867, 1267), (1701, 1577, 1711, 1596), (1570, 1115, 1580, 1136), (1661, 1247, 1670, 1268), (1661, 1445, 1670, 1465), (1660, 1346, 1669, 1366), (1660, 1313, 1670, 1334), (1531, 1015, 1540, 1038), (1530, 1048, 1539, 1071), (1530, 1147, 1538, 1170), (1529, 1444, 1538, 1466), (1530, 1378, 1539, 1401), (1529, 1575, 1538, 1597), (1007, 134, 1014, 159), (1596, 1016, 1606, 1036), (1637, 1015, 1646, 1036), (1570, 1049, 1580, 1069), (1597, 1049, 1607, 1069), (1636, 1049, 1645, 1069), (1635, 1081, 1644, 1101), (1595, 1148, 1604, 1168), (1636, 1148, 1645, 1168), (1596, 1181, 1605, 1202), (1637, 1181, 1646, 1201), (1635, 1214, 1644, 1235), (1634, 1444, 1643, 1464), (1570, 1412, 1580, 1433), (1596, 1411, 1605, 1432), (1636, 1412, 1645, 1432), (1636, 1379, 1645, 1399), (1570, 1380, 1580, 1400), (1595, 1347, 1604, 1367), (1595, 1313, 1605, 1333), (1595, 1511, 1605, 1531), (1636, 1576, 1645, 1596), (1595, 1478, 1604, 1498), (1636, 1609, 1645, 1630), (1726, 1478, 1735, 1498), (1767, 1477, 1777, 1497), (1768, 1608, 1777, 1629), (1858, 1510, 1867, 1531), (1858, 1544, 1867, 1564), (1899, 1544, 1909, 1564), (1899, 1577, 1908, 1597), (1793, 1609, 1803, 1629), (1859, 1609, 1868, 1629), (1571, 1609, 1580, 1631), (1661, 514, 1670, 535), (1532, 983, 1540, 1005), (1661, 1015, 1670, 1037), (1660, 1048, 1668, 1070), (1531, 1081, 1539, 1103), (1530, 1115, 1538, 1137), (1531, 1180, 1539, 1203), (1531, 1213, 1539, 1235), (1530, 1246, 1538, 1268), (1570, 1444, 1578, 1466), (1530, 1411, 1538, 1434), (1529, 1346, 1538, 1368), (1570, 1346, 1579, 1368), (1530, 1313, 1539, 1336), (1530, 1279, 1538, 1302), (1662, 1279, 1670, 1302), (1529, 1543, 1537, 1565), (1529, 1509, 1538, 1532), (1571, 1510, 1579, 1532), (1529, 1477, 1537, 1499), (1530, 1608, 1539, 1630), (1793, 1477, 1802, 1499), (1793, 1543, 1802, 1565), (1597, 984, 1606, 1004), (1636, 984, 1645, 1004), (1595, 1116, 1604, 1136), (1636, 1115, 1645, 1135), (1595, 1214, 1605, 1234), (1595, 1248, 1605, 1267), (1635, 1247, 1644, 1267), (1858, 1445, 1867, 1465), (1594, 1446, 1603, 1465), (1701, 1346, 1710, 1366), (1595, 1280, 1605, 1300), (1595, 1576, 1605, 1595), (1595, 1544, 1605, 1563), (1635, 1511, 1644, 1531), (1636, 1544, 1645, 1563), (1635, 1478, 1644, 1497), (1767, 1510, 1777, 1530), (1727, 1511, 1737, 1531), (1727, 1544, 1737, 1564), (1767, 1544, 1777, 1564), (1767, 1576, 1777, 1595), (1727, 1609, 1737, 1629), (1899, 1511, 1909, 1531), (1858, 1576, 1868, 1596), (1899, 1610, 1908, 1630), (1897, 482, 1907, 501), (1661, 1181, 1670, 1202), (1661, 1544, 1670, 1565), (1570, 985, 1578, 1007), (1662, 983, 1670, 1005), (1570, 1016, 1578, 1038), (1702, 1049, 1710, 1070), (1570, 1246, 1579, 1268), (1571, 1313, 1579, 1335), (1573, 1279, 1582, 1301), (1571, 1543, 1579, 1564), (1571, 1577, 1580, 1598), (1570, 1477, 1579, 1499), (1701, 1477, 1710, 1498), (1834, 1576, 1842, 1597), (1660, 1214, 1669, 1235), (1834, 1445, 1842, 1465), (1596, 1380, 1605, 1400), (1635, 1313, 1643, 1334), (1596, 1609, 1605, 1630), (1727, 1575, 1736, 1595), (1662, 1577, 1671, 1597), (1703, 1444, 1711, 1465), (1858, 1479, 1868, 1497), (1767, 983, 1776, 1003), (1767, 1050, 1776, 1070), (1597, 1082, 1606, 1102), (1767, 1181, 1776, 1201), (1835, 1247, 1843, 1267), (1768, 1411, 1777, 1431), (1635, 1346, 1644, 1366), (1767, 1313, 1776, 1333), (1636, 1280, 1644, 1300), (1701, 1511, 1710, 1531), (1899, 1478, 1908, 1498), (1727, 1444, 1736, 1465), (1701, 1411, 1710, 1432), (1793, 1576, 1802, 1597), (1105, 626, 1112, 651), (1702, 120, 1711, 141), (1701, 186, 1710, 207), (1767, 1083, 1776, 1103), (1767, 1116, 1776, 1135), (1767, 1149, 1776, 1168), (1728, 1182, 1737, 1201), (1570, 1214, 1579, 1233), (1767, 1379, 1776, 1399), (1660, 1149, 1669, 1169), (1728, 1149, 1736, 1169), (1792, 1247, 1800, 1267), (1661, 1478, 1670, 1498), (1661, 1609, 1670, 1630), (1834, 1478, 1842, 1498), (1859, 285, 1867, 305), (1835, 1608, 1843, 1630), (1570, 1150, 1579, 1168), (1767, 1017, 1775, 1037), (1768, 1248, 1776, 1267), (1792, 1445, 1800, 1464), (1728, 1346, 1736, 1366), (1661, 1511, 1670, 1531), (1792, 186, 1801, 206), (1661, 1116, 1669, 1137), (1833, 317, 1841, 338), (1768, 1215, 1776, 1235), (1770, 1446, 1778, 1465), (1768, 1347, 1776, 1366), (1768, 1281, 1776, 1301), (1833, 1544, 1841, 1563), (1570, 120, 1578, 139), (1596, 87, 1604, 106), (1702, 350, 1710, 369), (1702, 1149, 1710, 1169), (1702, 1609, 1710, 1630), (1767, 120, 1775, 141), (1834, 481, 1841, 501), (1834, 284, 1841, 304), (1858, 984, 1867, 1003), (1900, 984, 1908, 1003), (1858, 1016, 1867, 1035), (1900, 1016, 1908, 1035), (1860, 1050, 1868, 1068), (1898, 1083, 1907, 1102), (1859, 1083, 1868, 1102), (1898, 1115, 1907, 1134), (1900, 1149, 1908, 1168), (1858, 1181, 1866, 1200), (1899, 1182, 1908, 1201), (1900, 1216, 1908, 1235), (1900, 1248, 1908, 1267), (1899, 1445, 1908, 1464), (1858, 1412, 1867, 1431), (1900, 1412, 1908, 1431), (1858, 1380, 1867, 1399), (1858, 1347, 1867, 1365), (1899, 1314, 1907, 1333), (1859, 1313, 1867, 1332), (1899, 1281, 1908, 1300), (1636, 384, 1644, 402), (1833, 515, 1841, 533), (1702, 384, 1711, 402), (1727, 1411, 1735, 1431), (1834, 1511, 1842, 1531), (1530, 87, 1538, 107), (1530, 219, 1538, 239), (1768, 318, 1776, 338), (1899, 514, 1907, 534), (1858, 153, 1866, 173), (1727, 1280, 1735, 1301), (1638, 514, 1645, 535), (1900, 153, 1907, 174), (1792, 1413, 1801, 1431), (1662, 1084, 1670, 1103), (1727, 1215, 1735, 1234), (1702, 1281, 1710, 1300), (1570, 417, 1578, 436), (1727, 219, 1735, 238), (1899, 417, 1907, 436), (1834, 120, 1841, 140), (1899, 285, 1907, 304), (1702, 515, 1710, 534), (1728, 1379, 1735, 1399), (1703, 1379, 1710, 1399), (1571, 252, 1579, 272), (1530, 251, 1537, 271), (1702, 1084, 1710, 1102), (1899, 1050, 1907, 1069), (1856, 1115, 1864, 1134), (1856, 1148, 1864, 1167), (1859, 1214, 1867, 1233), (1834, 1412, 1841, 1431), (1859, 1282, 1867, 1301), (1793, 1511, 1801, 1530), (1571, 220, 1579, 239), (1637, 54, 1644, 73), (1859, 54, 1867, 73), (1859, 121, 1867, 140), (1834, 351, 1842, 370), (1728, 1248, 1735, 1267), (1571, 285, 1579, 305), (1702, 153, 1709, 173), (1702, 218, 1709, 238), (1727, 515, 1734, 534), (1702, 983, 1709, 1004), (1727, 984, 1735, 1004), (1834, 1016, 1841, 1036), (1834, 1051, 1841, 1070), (1833, 1149, 1840, 1168), (1835, 1182, 1842, 1201), (1835, 1214, 1842, 1233), (1835, 1380, 1842, 1400), (1835, 1281, 1842, 1301), (1596, 22, 1603, 41), (1662, 252, 1669, 272), (1660, 417, 1668, 436), (1834, 450, 1841, 468), (1703, 1116, 1710, 1136), (1833, 1116, 1840, 1135), (1727, 88, 1734, 106), (1793, 219, 1801, 238), (1768, 515, 1775, 534), (1703, 1182, 1710, 1202), (1531, 21, 1538, 41), (1531, 54, 1538, 74), (1530, 119, 1537, 139), (1531, 154, 1538, 174), (1531, 186, 1538, 206), (1530, 350, 1537, 370), (1531, 416, 1538, 436), (1530, 482, 1537, 501), (1595, 120, 1602, 140), (1595, 153, 1602, 173), (1594, 184, 1601, 204), (1595, 250, 1602, 270), (1596, 285, 1603, 305), (1595, 350, 1602, 370), (1595, 383, 1602, 402), (1596, 416, 1603, 435), (1595, 449, 1602, 469), (1637, 448, 1643, 468), (1595, 482, 1602, 502), (1595, 515, 1602, 534), (1662, 21, 1669, 41), (1728, 22, 1735, 42), (1728, 54, 1735, 74), (1662, 55, 1669, 75), (1662, 87, 1669, 106), (1727, 120, 1734, 140), (1768, 187, 1775, 206), (1728, 185, 1735, 205), (1662, 187, 1669, 206), (1661, 219, 1668, 239), (1728, 250, 1735, 270), (1727, 285, 1734, 305), (1728, 316, 1735, 336), (1662, 382, 1669, 402), (1858, 383, 1865, 402), (1860, 416, 1867, 436), (1792, 449, 1799, 469), (1859, 482, 1866, 501), (1794, 482, 1801, 501), (1794, 515, 1801, 535), (1792, 21, 1799, 41), (1858, 20, 1865, 40), (1859, 87, 1866, 106), (1793, 86, 1800, 105), (1792, 152, 1799, 172), (1859, 219, 1866, 239), (1857, 251, 1864, 271), (1792, 252, 1799, 272), (1793, 317, 1800, 337), (1793, 350, 1800, 370), (1792, 383, 1799, 402), (1728, 449, 1735, 469), (1662, 448, 1669, 468), (1661, 481, 1668, 500), (1728, 482, 1735, 502), (1768, 351, 1775, 369), (1834, 985, 1841, 1004), (1704, 1015, 1711, 1036), (1728, 1050, 1735, 1069), (1835, 1083, 1842, 1102), (1703, 1214, 1709, 1235), (1834, 1347, 1841, 1366), (1834, 1314, 1841, 1333), (1703, 1313, 1709, 1334), (1595, 53, 1602, 73), (1595, 218, 1602, 238), (1901, 1346, 1908, 1365), (1571, 22, 1578, 41), (1571, 55, 1578, 74), (1572, 88, 1579, 106), (1572, 154, 1579, 173), (1571, 317, 1578, 336), (1572, 483, 1579, 501), (1572, 515, 1579, 533), (1637, 22, 1644, 41), (1637, 88, 1644, 106), (1637, 153, 1644, 172), (1638, 186, 1645, 205), (1638, 250, 1644, 269), (1638, 351, 1644, 370), (1637, 417, 1643, 435), (1768, 219, 1775, 238), (1703, 318, 1710, 337), (1899, 383, 1906, 402), (1835, 417, 1841, 436), (1900, 449, 1907, 468), (1898, 55, 1905, 74), (1835, 87, 1842, 105), (1900, 121, 1907, 140), (1834, 153, 1841, 172), (1901, 186, 1908, 204), (1834, 220, 1841, 239), (1835, 253, 1842, 272), (1900, 318, 1907, 337), (1834, 384, 1841, 403), (1768, 450, 1775, 469), (1702, 449, 1709, 468), (1702, 482, 1709, 501), (1860, 515, 1867, 534), (1728, 1018, 1735, 1038), (1728, 1314, 1734, 1334), (1531, 285, 1538, 305), (1531, 384, 1537, 404), (1531, 449, 1537, 469), (1531, 515, 1537, 535), (1596, 317, 1602, 337), (1663, 120, 1670, 140), (1728, 153, 1734, 173), (1662, 285, 1669, 305), (1662, 317, 1668, 337), (1728, 350, 1735, 370), (1661, 350, 1668, 370), (1794, 416, 1800, 436), (1859, 449, 1865, 469), (1793, 54, 1799, 74), (1793, 120, 1800, 140), (1859, 186, 1866, 206), (1794, 284, 1800, 304), (1858, 318, 1865, 338), (1858, 350, 1864, 370), (1726, 382, 1733, 402), (1728, 416, 1734, 435), (1793, 984, 1800, 1003), (1794, 1083, 1801, 1102), (1791, 1149, 1798, 1167), (1792, 1182, 1799, 1200), (1792, 1214, 1799, 1232), (1900, 1379, 1907, 1398), (1792, 1380, 1799, 1399), (1792, 1347, 1799, 1365), (1793, 1314, 1800, 1332), (1571, 351, 1578, 370), (1571, 450, 1578, 468), (1703, 55, 1710, 74), (1769, 88, 1776, 106), (1703, 254, 1710, 272), (1768, 251, 1775, 270), (1900, 87, 1907, 105), (1728, 1083, 1734, 1102), (1793, 1017, 1800, 1035), (1794, 1050, 1801, 1068), (1791, 1116, 1798, 1134), (1793, 1281, 1800, 1299), (1572, 187, 1579, 206), (1572, 385, 1578, 404), (1638, 121, 1644, 140), (1637, 219, 1643, 238), (1637, 286, 1643, 305), (1638, 318, 1644, 337), (1638, 483, 1644, 501), (1703, 22, 1710, 41), (1769, 22, 1775, 41), (1769, 55, 1776, 74), (1703, 88, 1710, 106), (1768, 153, 1775, 172), (1769, 285, 1775, 303), (1703, 286, 1710, 304), (1835, 22, 1841, 41), (1901, 21, 1907, 40), (1835, 54, 1841, 73), (1835, 186, 1841, 204), (1900, 220, 1907, 239), (1901, 252, 1907, 271), (1900, 351, 1907, 370), (1769, 384, 1775, 403), (1703, 417, 1709, 435), (1768, 417, 1774, 435), (1769, 483, 1776, 501), (1728, 1115, 1734, 1135), (1530, 318, 1537, 336), (1663, 154, 1668, 174)
